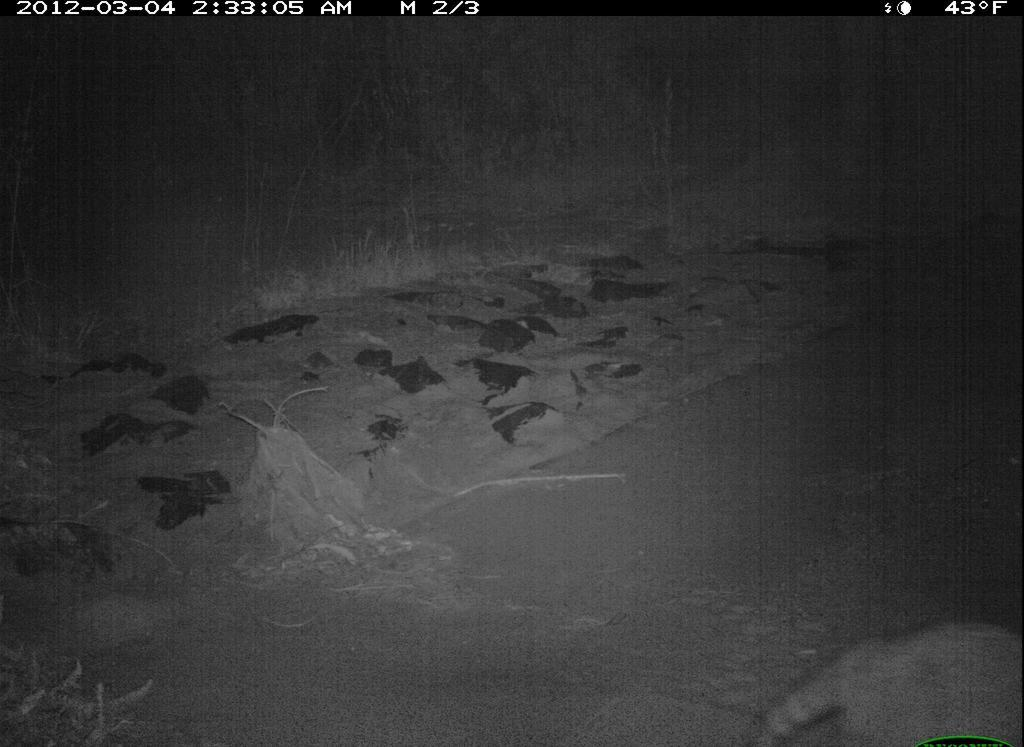raccoon: (750, 612, 1024, 747)
